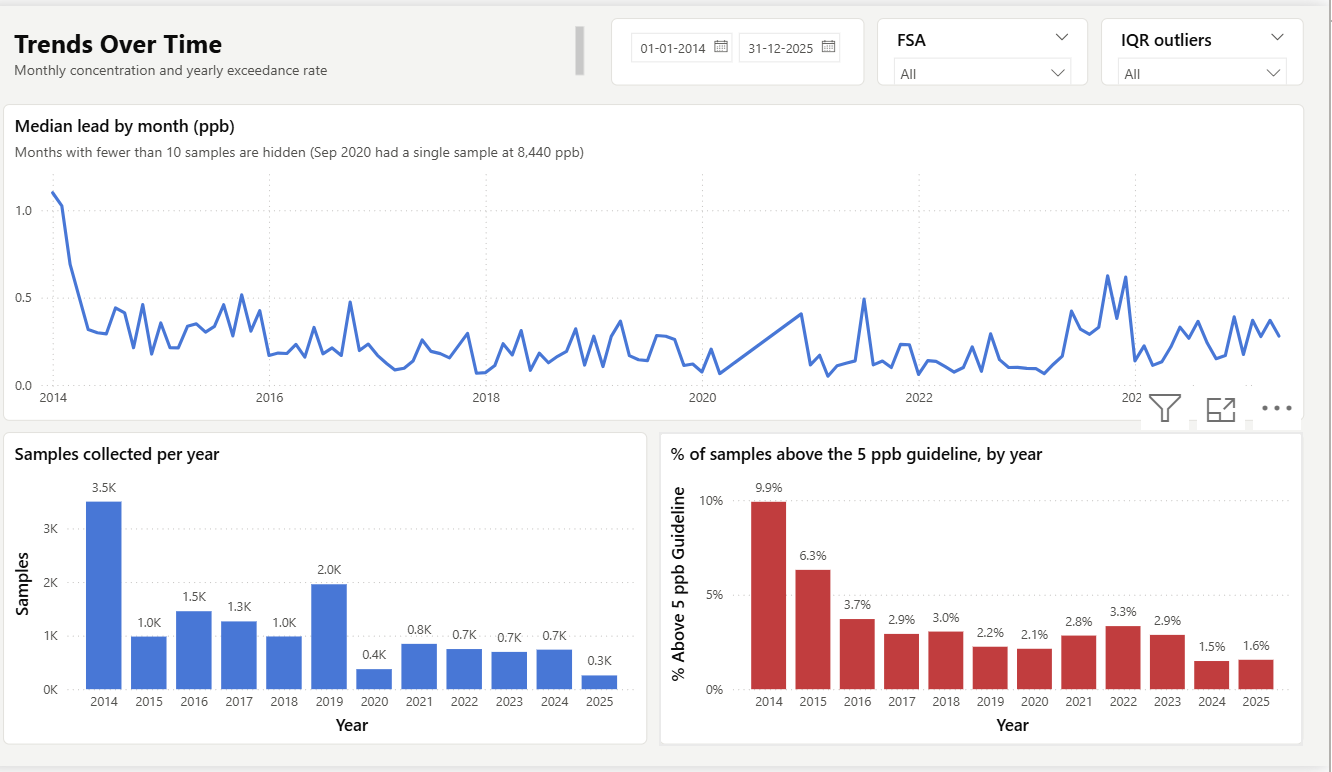

What the dashboard file says about the page in this screenshot:
{"tool":"powerbi","page":{"name":"Trends","canvas":[1280,720],"ordinal":1},"visuals":[{"type":"textbox","box":[24,12,560,64],"z":1000},{"type":"slicer","fields":{"Values":["Date.Date"]},"box":[600,12,240,64],"z":2000},{"type":"slicer","fields":{"Values":["FSA Lookup.FSA"]},"box":[852,12,200,64],"z":3000},{"type":"slicer","fields":{"Values":["Lead Samples.Outlier Status"]},"box":[1064,12,192,64],"z":4000},{"type":"lineChart","title":"Median lead by month (ppb)","fields":{"Category":["Date.Month Start"],"Y":["Lead Samples.Median Lead (ppb, 10+ samples)"]},"box":[24,92,1232,300],"z":5000},{"type":"clusteredColumnChart","title":"Samples collected per year","fields":{"Category":["Date.Year"],"Y":["Lead Samples.Samples"]},"box":[24,404,610,296],"z":6000},{"type":"clusteredColumnChart","title":"% of samples above the 5 ppb guideline, by year","fields":{"Category":["Date.Year"],"Y":["Lead Samples.% Above 5 ppb Guideline"]},"box":[646,404,610,296],"z":7000}]}

Visuals, with their boxes in screenshot pixels (x1, y1, x2, y2), scaled from the page's 1280x720 canvas onto the 1332x772 screenshot:
textbox: 25 13 608 81
slicer - Date.Date: 624 13 874 81
slicer - FSA Lookup.FSA: 887 13 1095 81
slicer - Lead Samples.Outlier Status: 1107 13 1307 81
"Median lead by month (ppb)" lineChart: 25 99 1307 420
"Samples collected per year" clusteredColumnChart: 25 433 660 751
"% of samples above the 5 ppb guideline, by year" clusteredColumnChart: 672 433 1307 751
